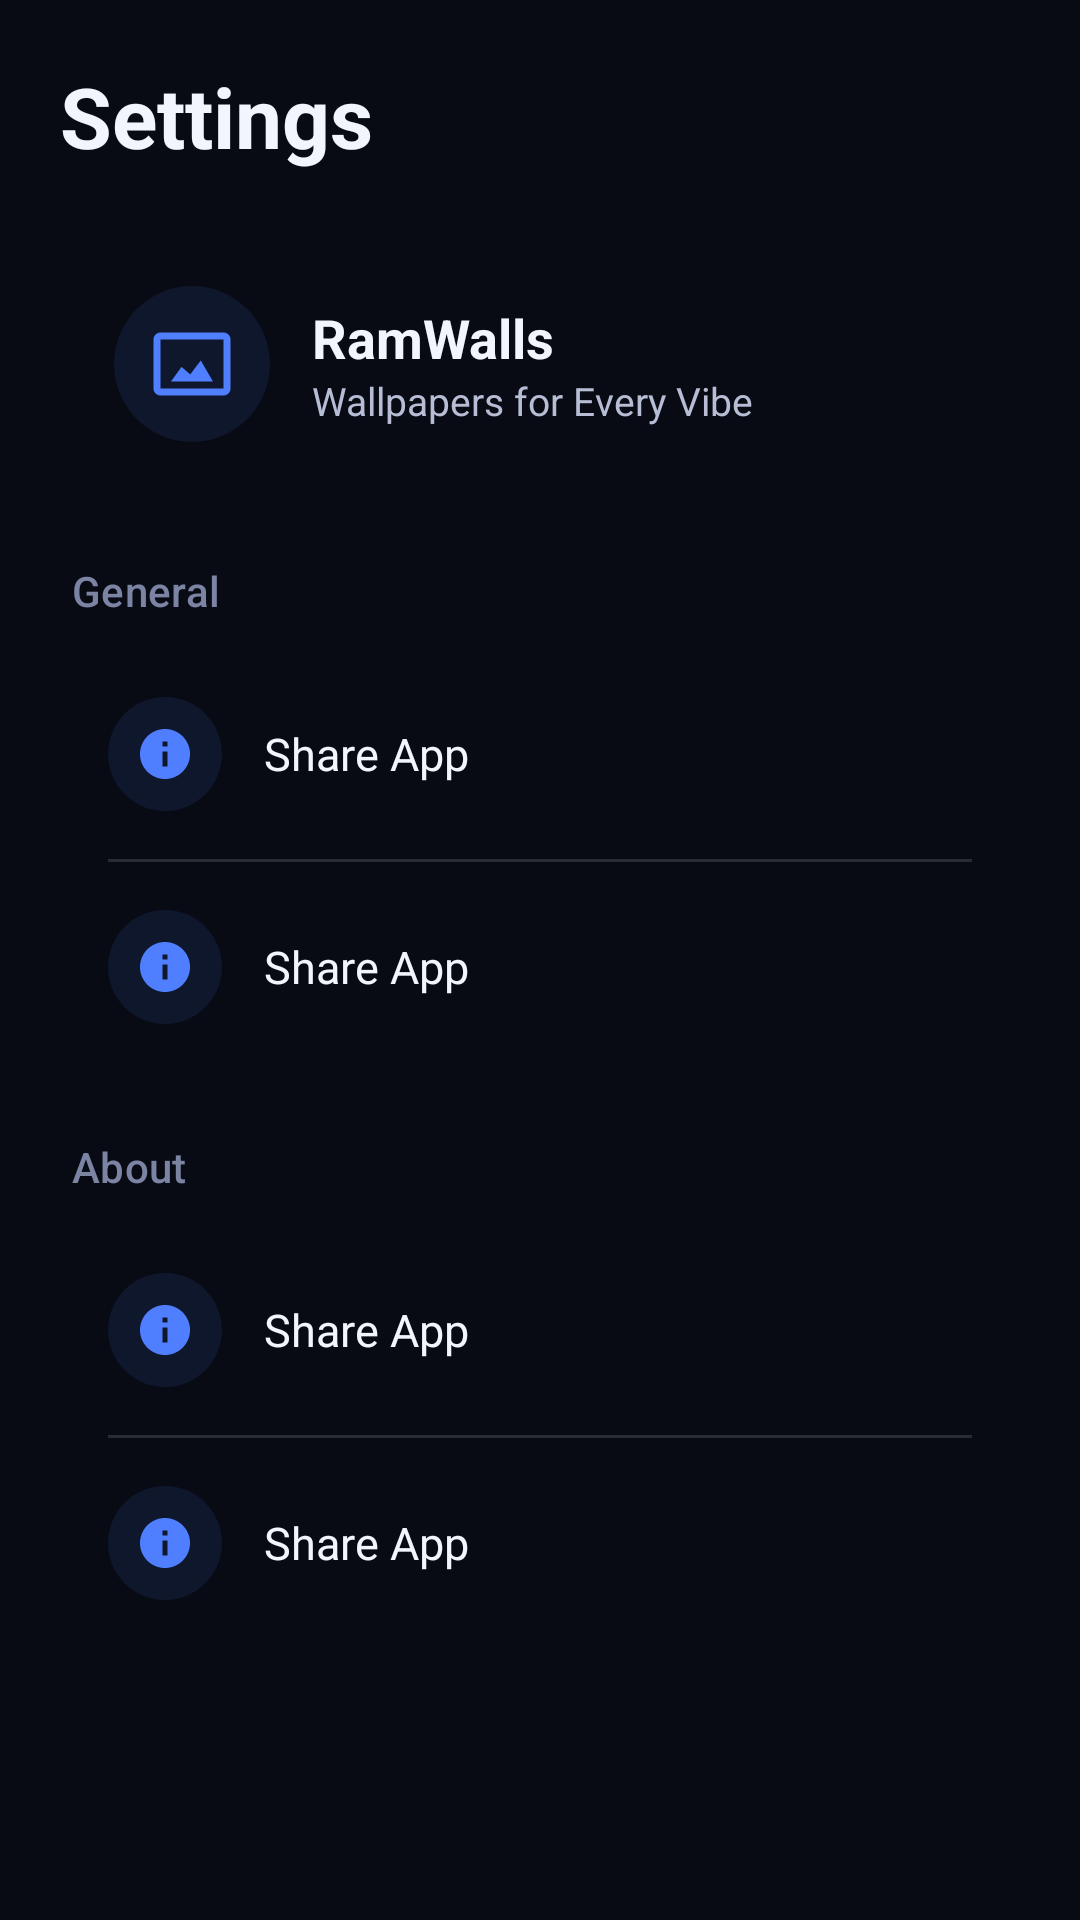

Icons on this 1080px×1920px Android screen, each with the point to tap as (x=x, y=y):
info: (x=165, y=754), (x=165, y=967), (x=165, y=1330), (x=165, y=1543)
